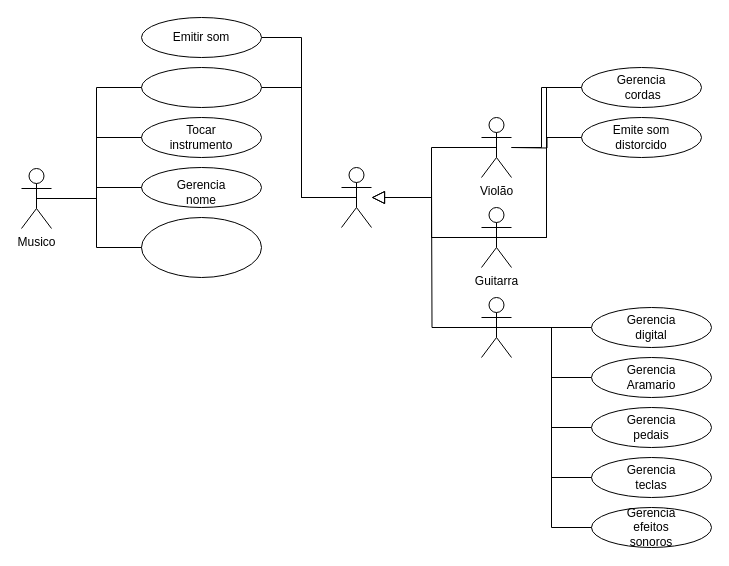
The diagram is 729 pixels wide and 566 high, and some of its shapes have lost their labels. The shapes that lost their labels are listed below. From the top down, each one's centre as x and y in pixels, then its label:
At pixel 201 87: "Lista informação".
At pixel 356 197: "Instrumento".
At pixel 201 247: "Gerencia lista de instrumentos".
At pixel 496 327: "Piano".
